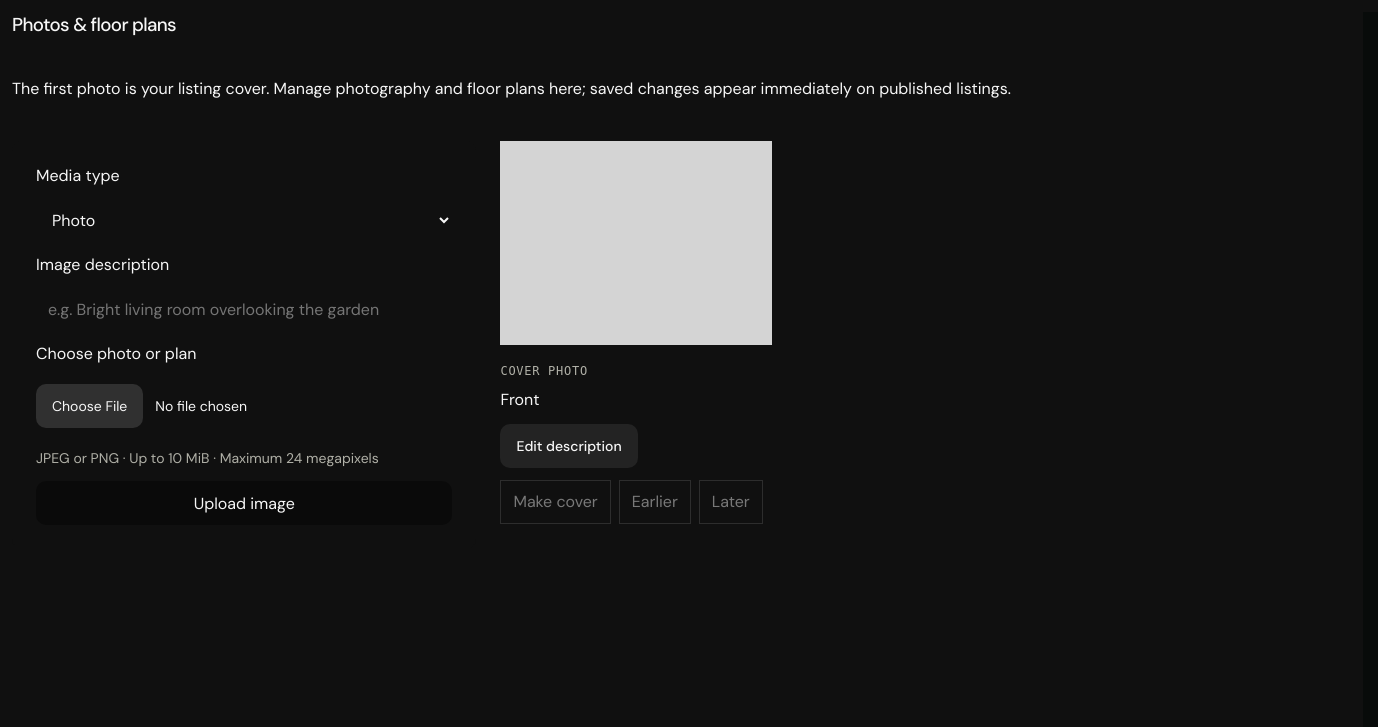
Test case: edits a saved description and retains it after a failed save
Step 1. Click the button with aria-label "Edit description: Front" → point(569, 446), box 500,424 -> 638,468
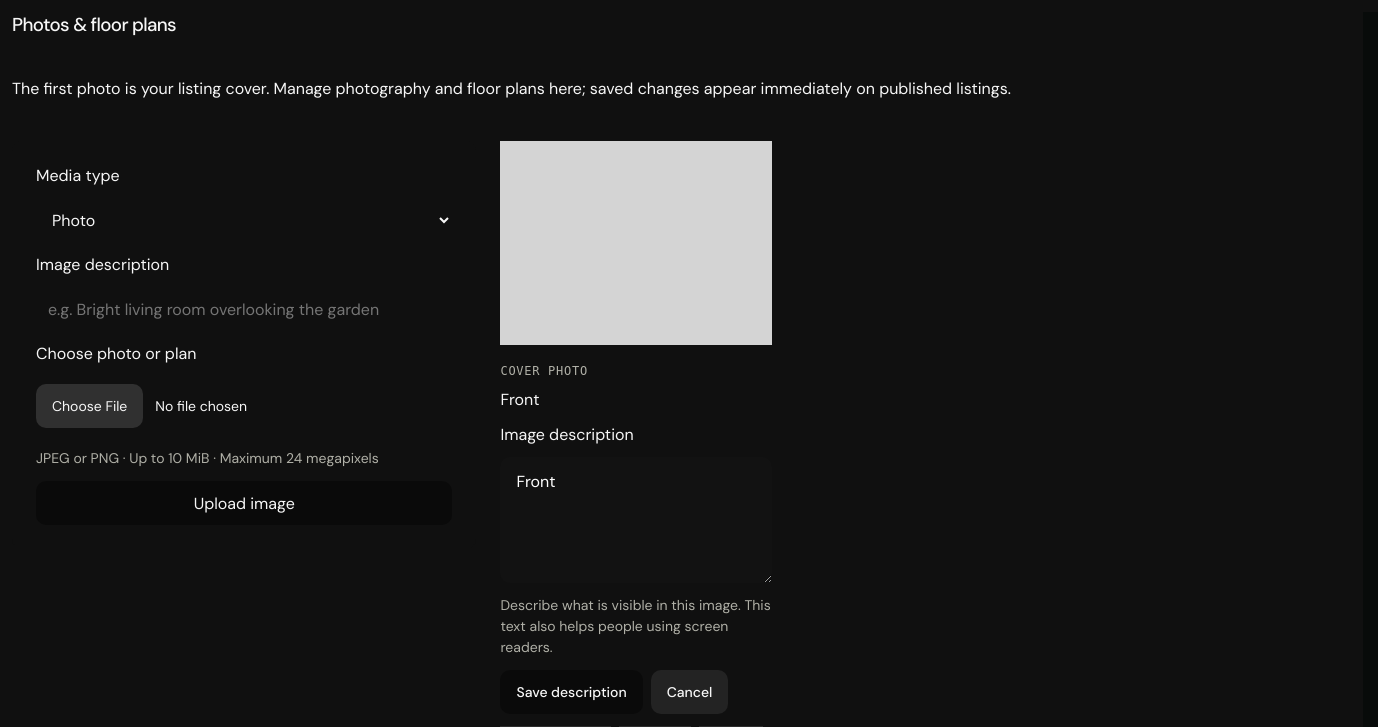
Step 2. Replace the text in the text box named "Description for Front" with "Garden entrance" → point(636, 520), box 500,457 -> 772,583
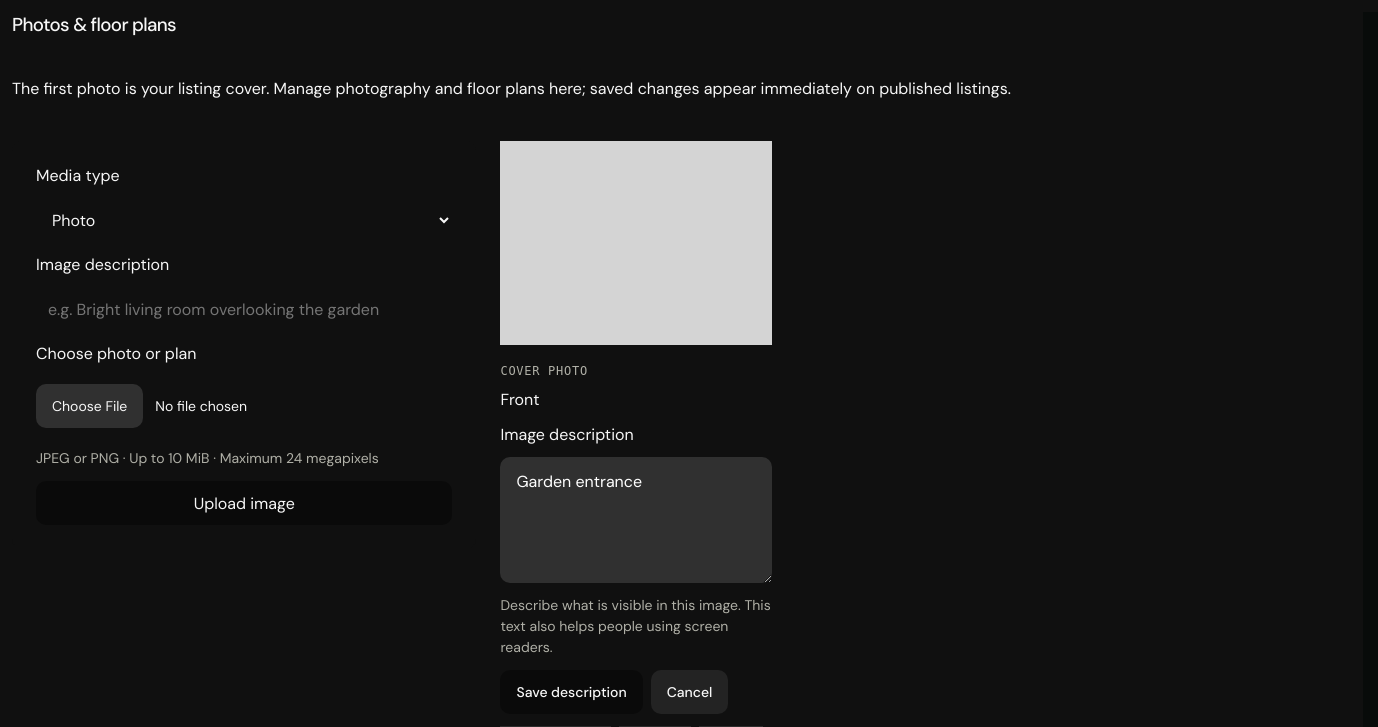
Step 3. Click the button "Save description" → point(572, 692), box 500,670 -> 643,714
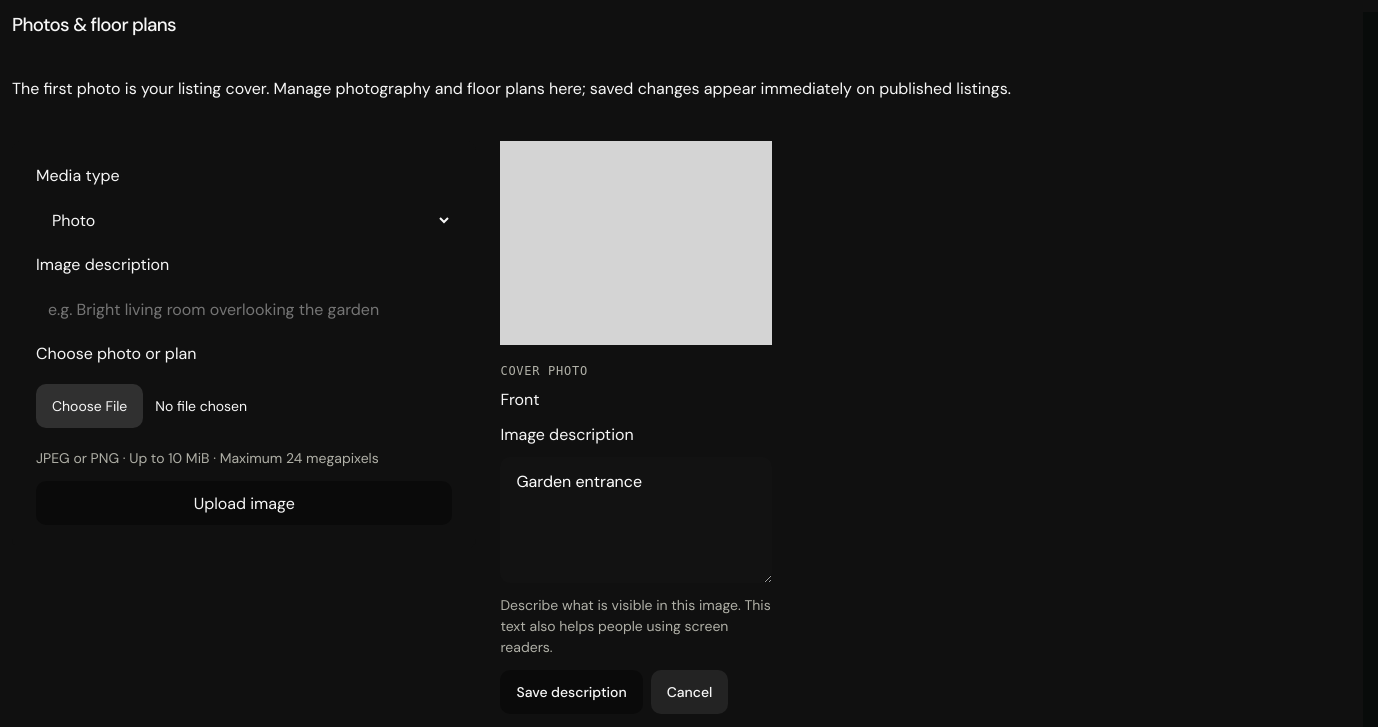
Step 4. Click the button "Save description" → point(572, 692), box 500,670 -> 643,714
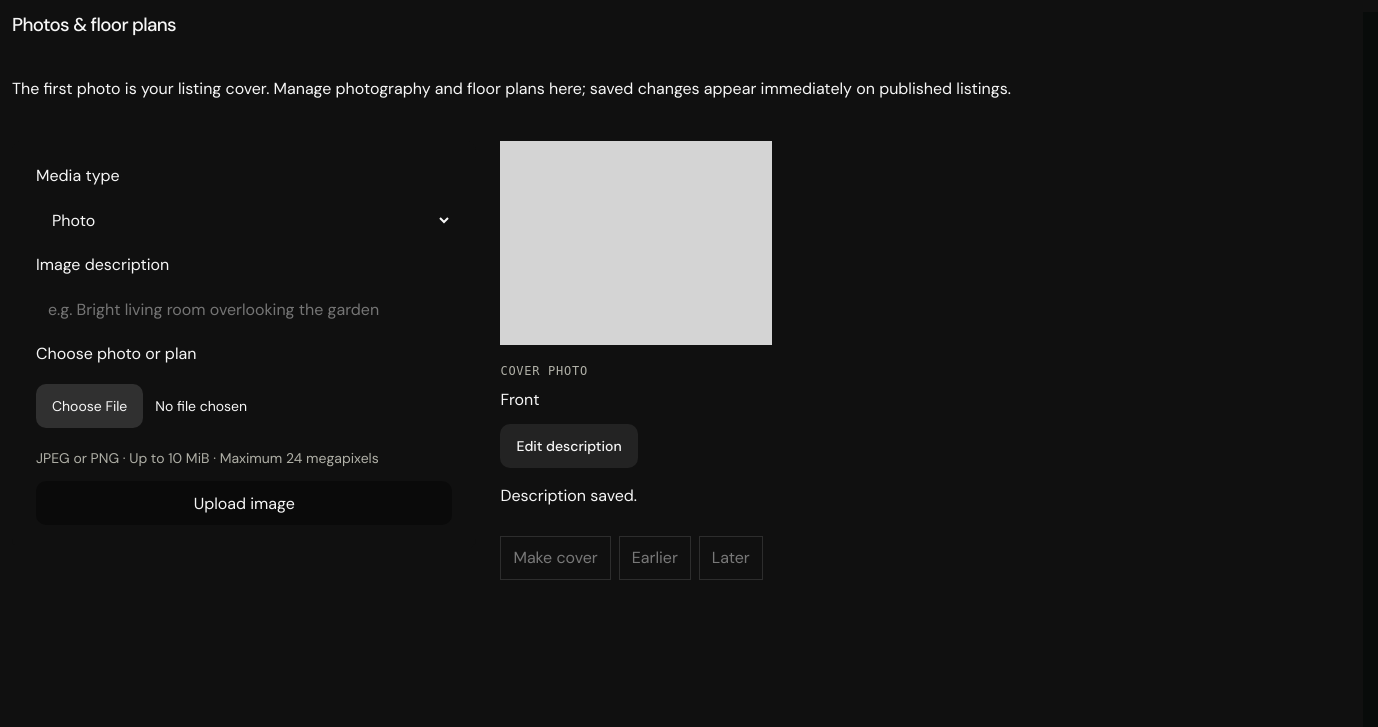
expect the text "Description saved." is shown: met, box 500,485 -> 637,506
